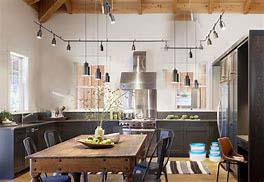copymove: (169, 9, 199, 91)
removal: (33, 53, 74, 91)
spliced: (188, 141, 221, 163)
